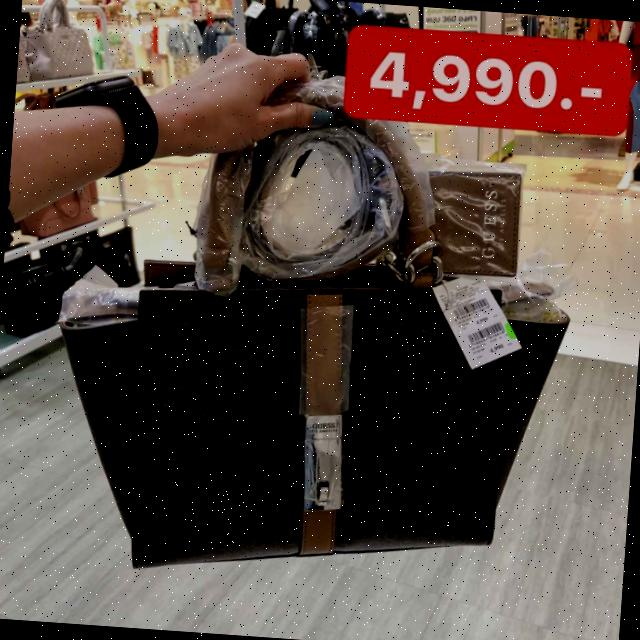Handbag: (25, 221, 600, 607)
